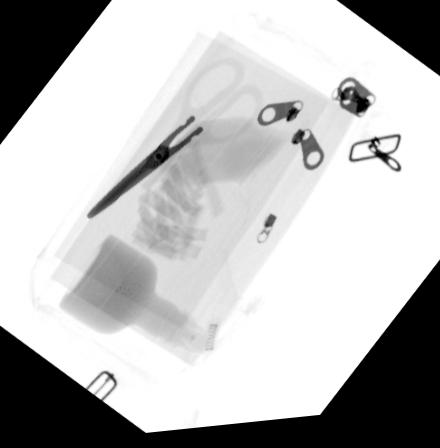Scissors: (85, 59, 264, 221)
